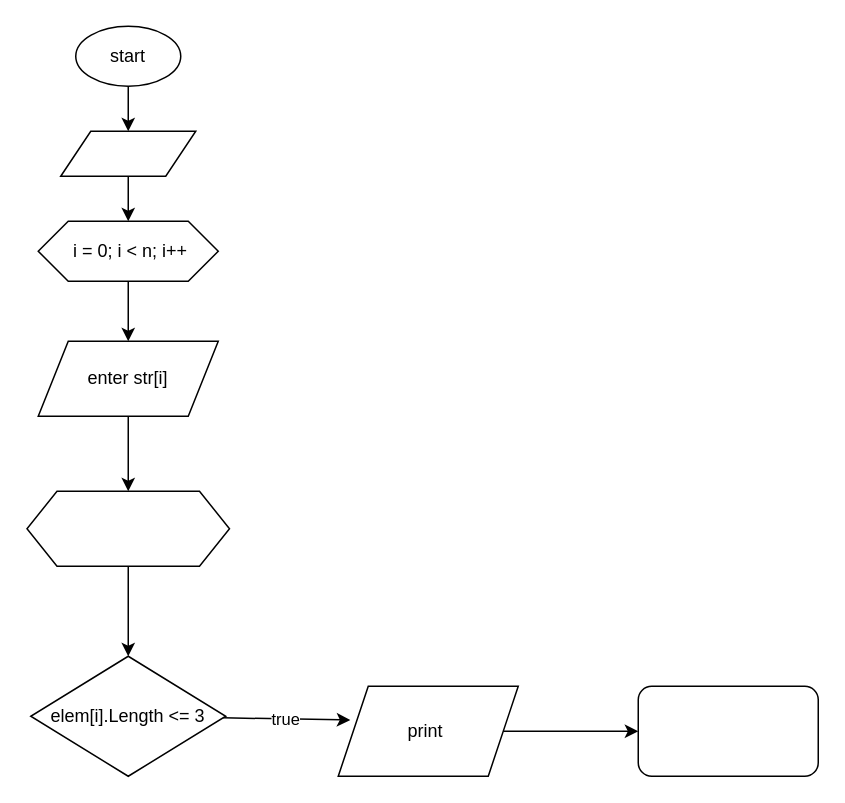
This 845x803 diagram has some shape labels left out. Here are the shapes that lost their labels. From the top down, the centre of each, then its label:
At (x=127, y=153): "Enter n".
At (x=128, y=528): "i = 0; i < elem.Length; i++".
At (x=727, y=730): "End".
